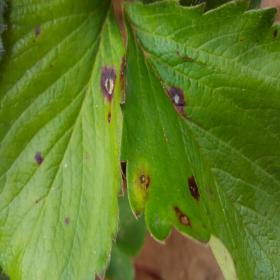Leaf Spot: (119, 0, 279, 279), (0, 0, 126, 279)
